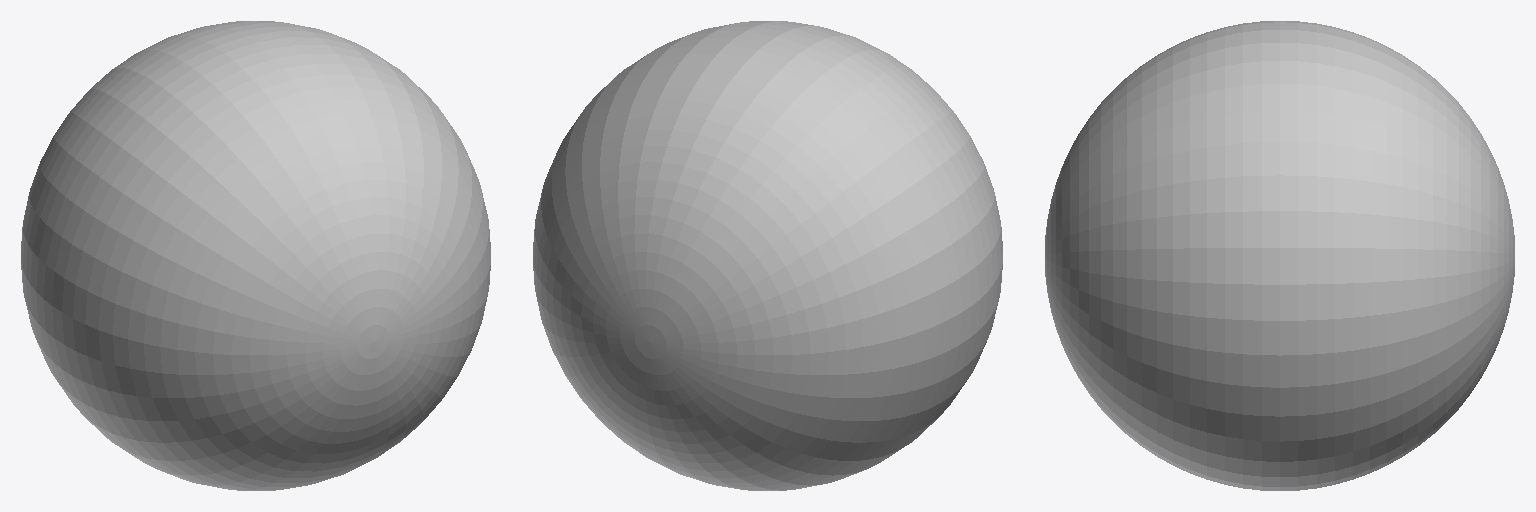
Rendered from uv_sphere_rad1_40x40.obj.
The picture shows the model from 3 angles: view 1: azimuth 30°, elevation 25°; view 2: azimuth 150°, elevation 25°; view 3: azimuth 270°, elevation 25°; orthographic projection.
Size of the model in its own units: 2 by 2 by 2.